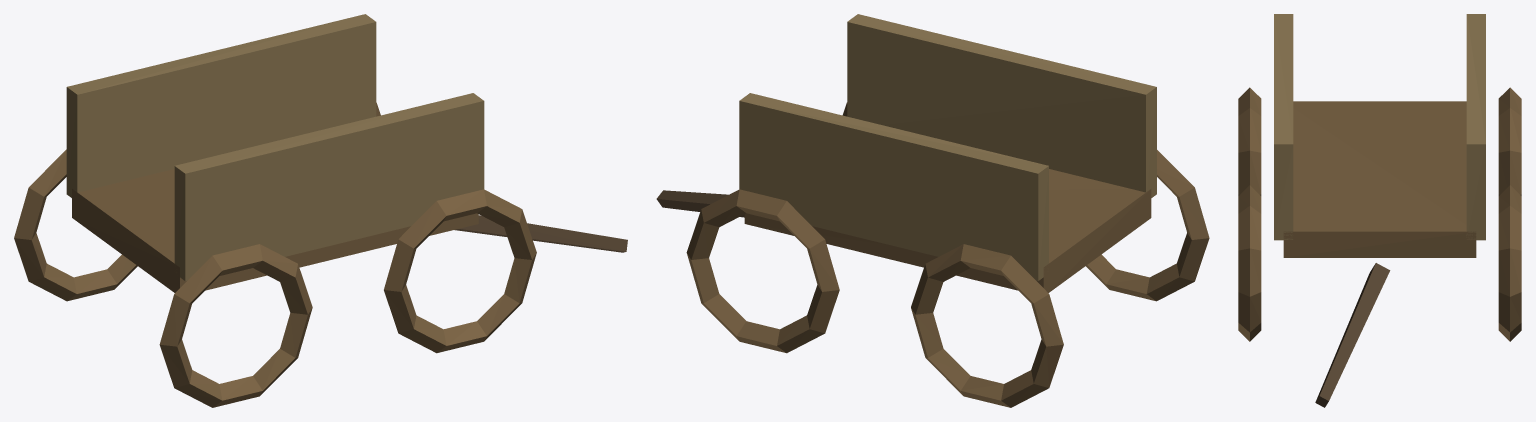
File: broken_wagon-far.glb
3 renders of one model, left to right at view 1: azimuth 30°, elevation 25°; view 2: azimuth 150°, elevation 25°; view 3: azimuth 270°, elevation 25°, orthographic. The views are drawn at different scales.
Visible parts, largest first — view 1: world-scenery/broken_wagon-far; view 2: world-scenery/broken_wagon-far; view 3: world-scenery/broken_wagon-far.
Boxes of the visible parts, bbox=[...] form: world-scenery/broken_wagon-far: bbox=[14, 14, 627, 407]; world-scenery/broken_wagon-far: bbox=[656, 14, 1209, 407]; world-scenery/broken_wagon-far: bbox=[1238, 14, 1521, 407].
Size of the model in its own units: 2.72 by 1.16 by 1.47.
